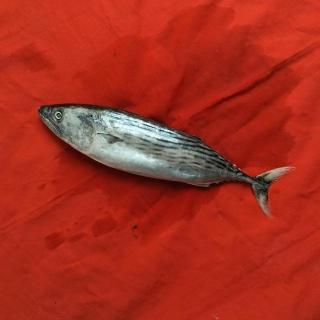Ikan: (31, 91, 297, 225)
